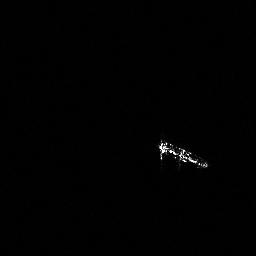ship: (153, 134, 211, 171)
